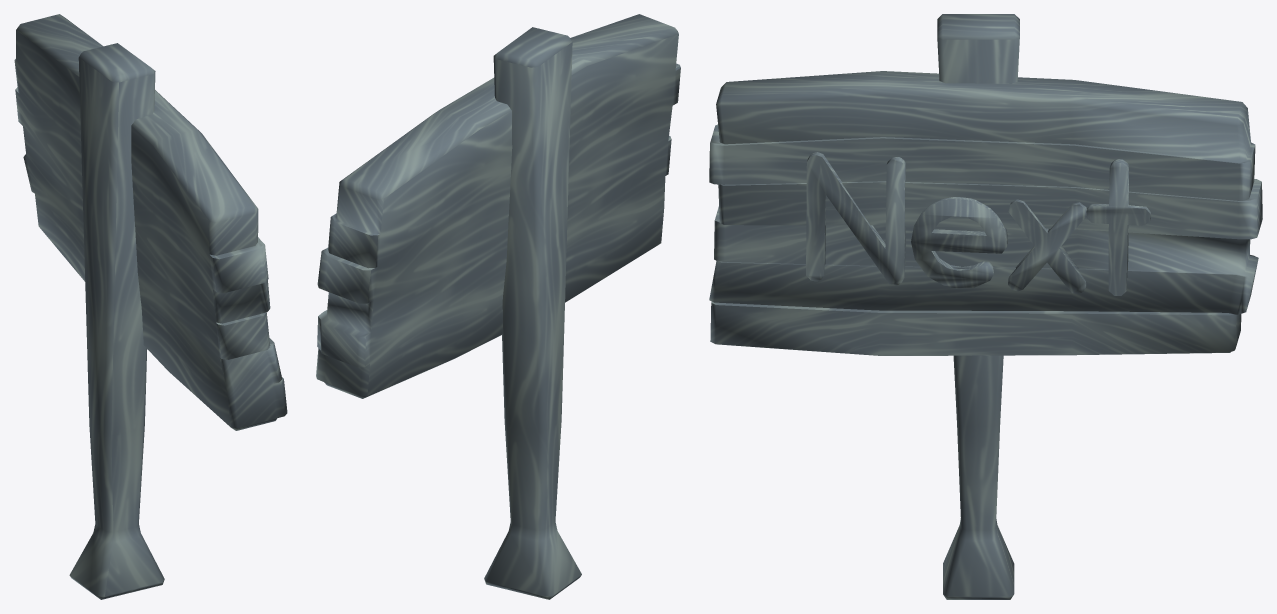
The model's file is NextSign.fbx.
3 views of the same model, side by side, from view 1: azimuth 30°, elevation 25°; view 2: azimuth 150°, elevation 25°; view 3: azimuth 270°, elevation 25° (orthographic). The views are drawn at different scales.
Visible parts, largest first — view 1: Cube; view 2: Cube; view 3: Cube.
Part boxes in pixels (x1=…): Cube: x1=14, y1=14, x2=287, y2=599; Cube: x1=316, y1=14, x2=680, y2=599; Cube: x1=709, y1=14, x2=1262, y2=599.
Bounding box in the file's own units: 0.253 × 0.9837 × 0.8802.
